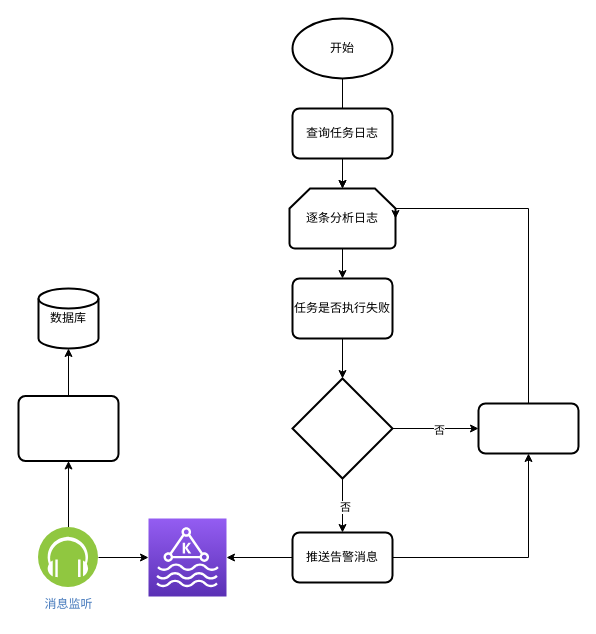
This 596x634 diagram has some shape labels left out. Here are the shapes that lost their labels. From the top down, the centre of each, then its label:
the point at 68,428: 事件消费
the point at 342,428: 是否失败
the point at 528,428: 检测下一个数据库
the point at 187,557: kafka
